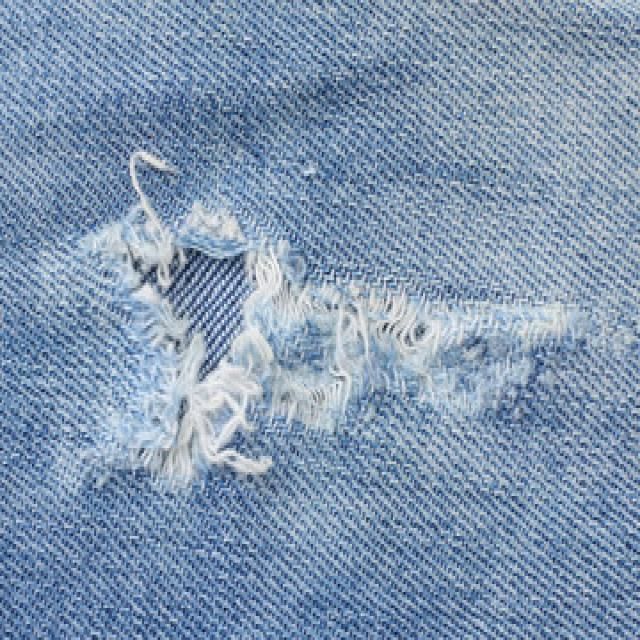Hole: (80, 207, 579, 492), (110, 205, 305, 294)
